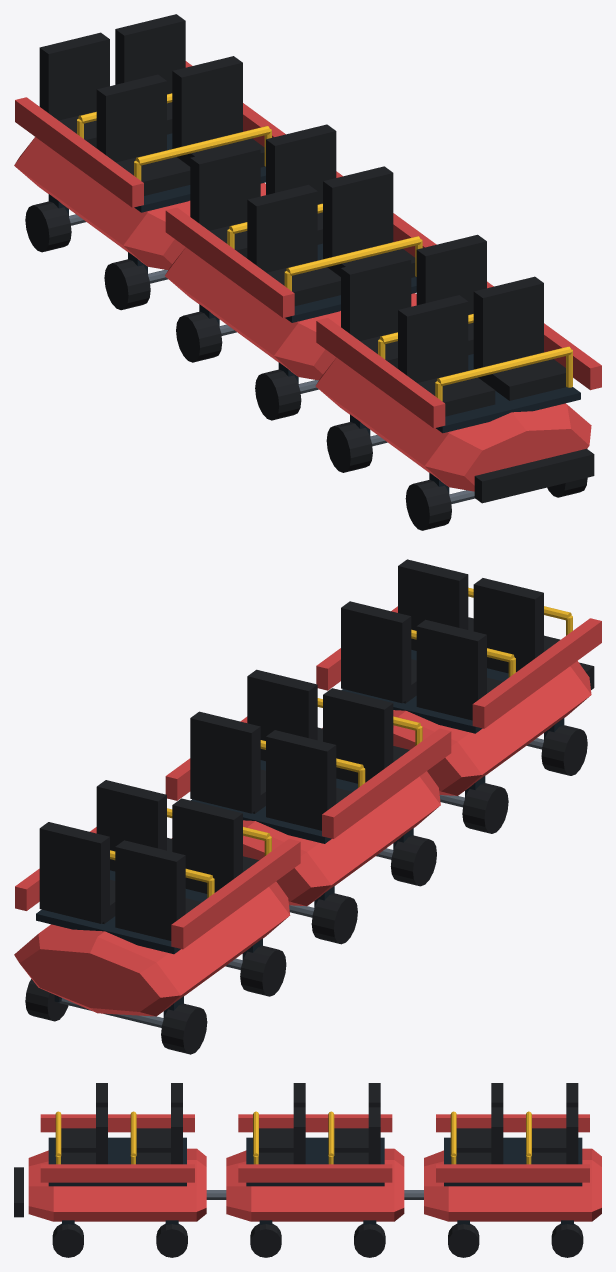
Rendered from coaster.glb.
3 views of the same model, one above another, from view 1: azimuth 30°, elevation 25°; view 2: azimuth 150°, elevation 25°; view 3: azimuth 270°, elevation 25° (orthographic). The views are drawn at different scales.
Parts seen in each view (by area): view 1: coaster body; view 2: coaster body; view 3: coaster body.
Boxes of the visible parts, box(x1,y1,x2,y2) form: coaster body: box(14, 14, 601, 530); coaster body: box(14, 559, 601, 1054); coaster body: box(14, 1083, 601, 1257).
Size of the model in its own units: 1.29 by 1.42 by 5.95.
